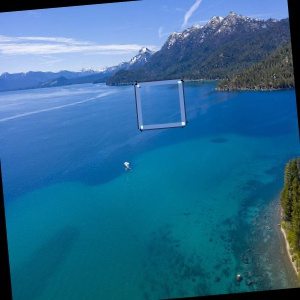square: (131, 76, 192, 132)
